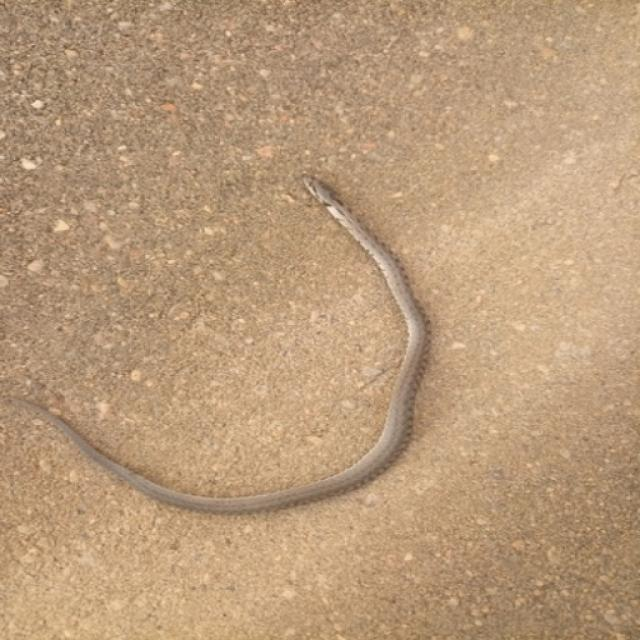snake: (7, 160, 447, 526)
